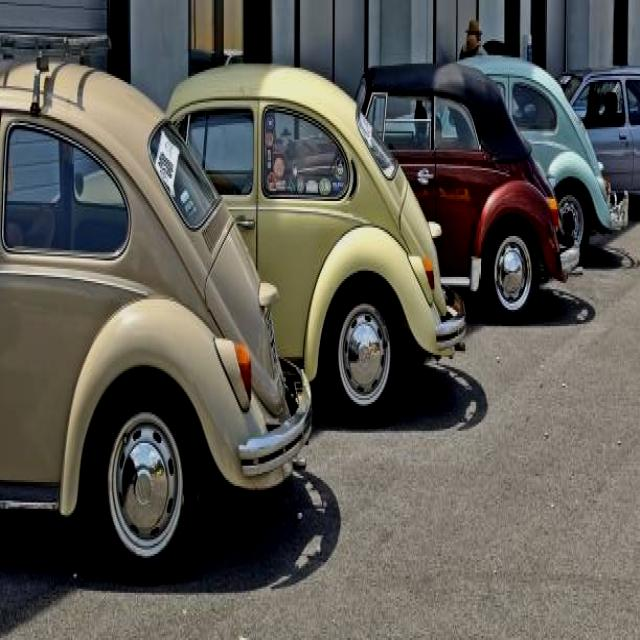car: (1, 58, 293, 557), (132, 79, 448, 421), (343, 71, 554, 320), (434, 45, 599, 241)
